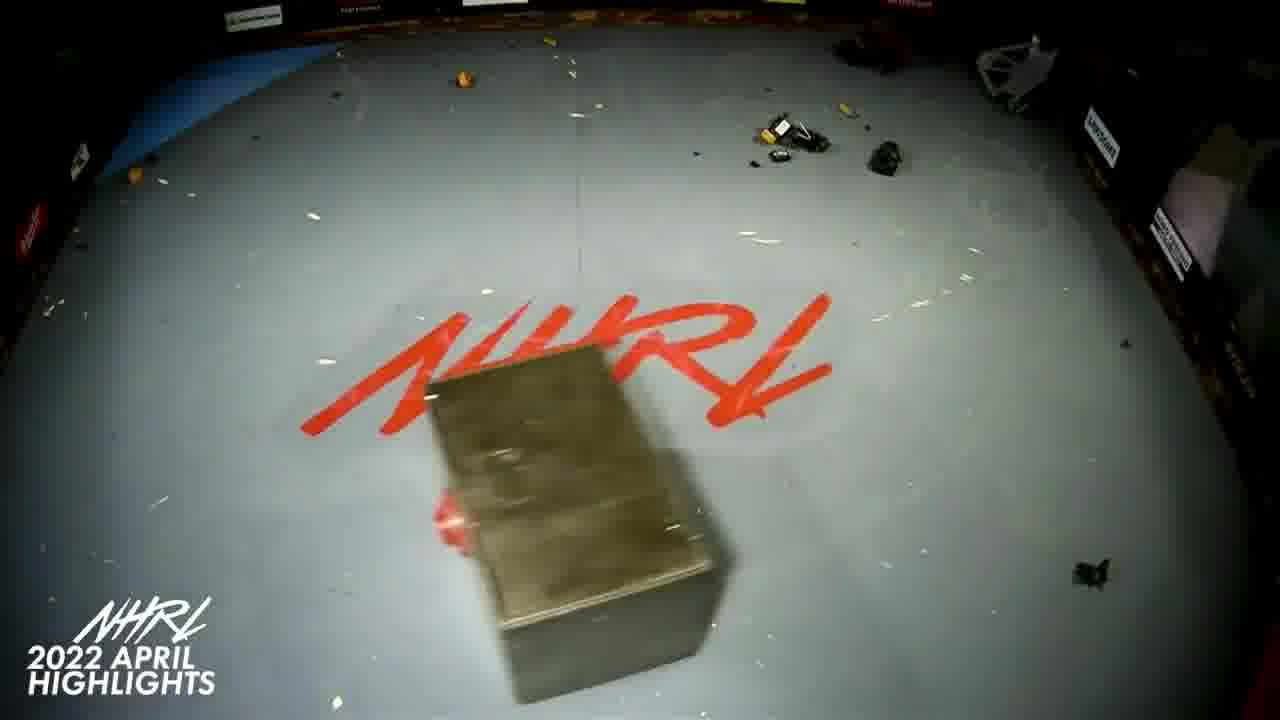combatbot: (976, 39, 1054, 118), (830, 20, 913, 77), (750, 113, 832, 155), (450, 71, 479, 91)
debris: (865, 139, 908, 176), (1071, 564, 1108, 585)
housebot: (428, 332, 733, 703)
